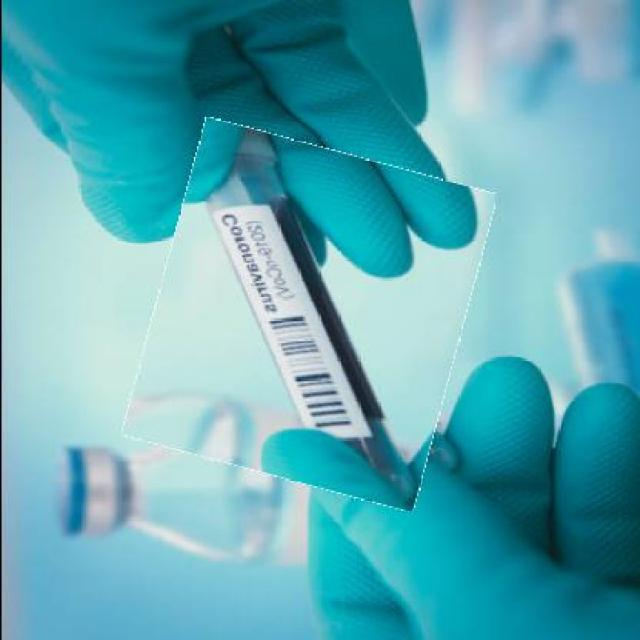Experimental-tube: (138, 133, 477, 496)
